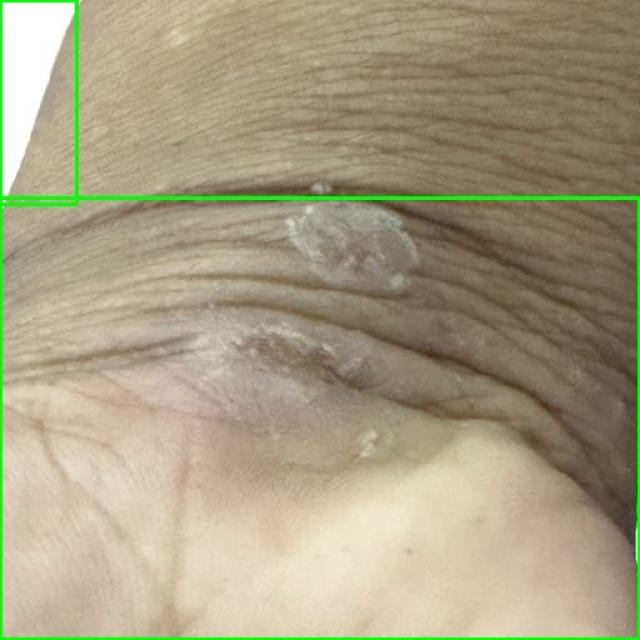Scabies: (0, 198, 639, 639), (0, 0, 78, 205)
